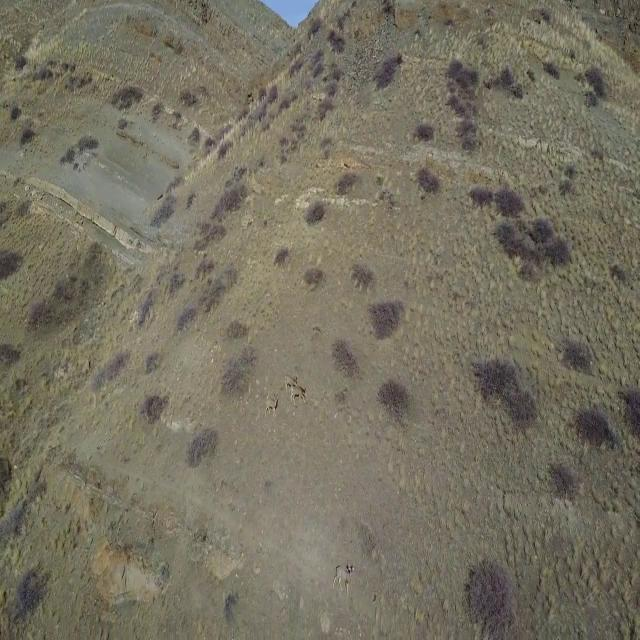Deer: (331, 556, 355, 602), (262, 389, 280, 415), (289, 382, 307, 408), (286, 372, 298, 400)
